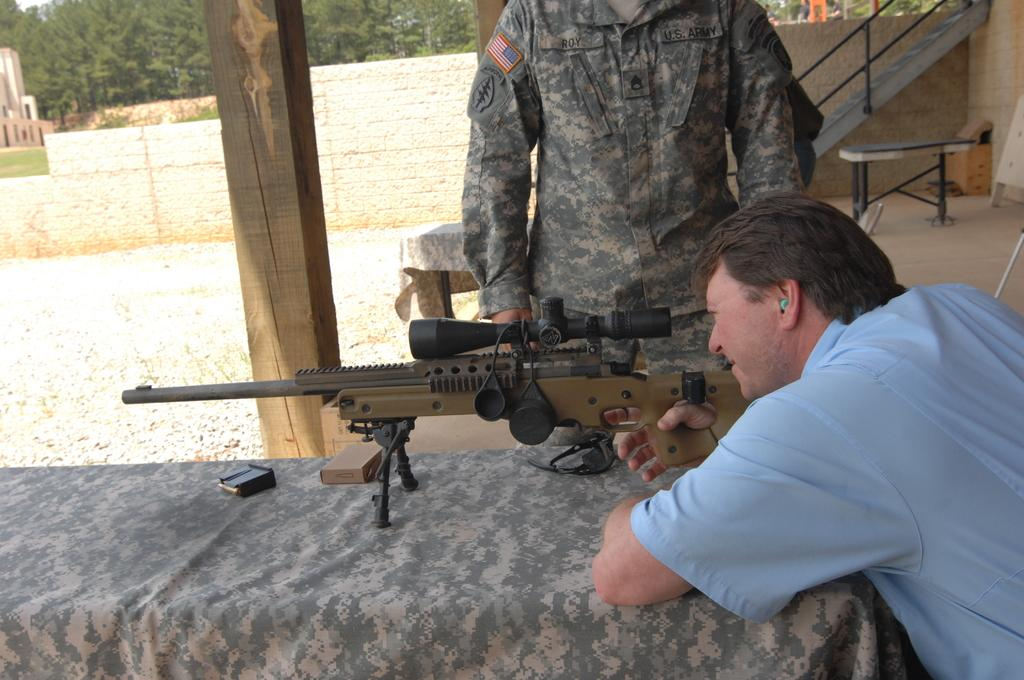Rifle: (124, 298, 749, 524)
